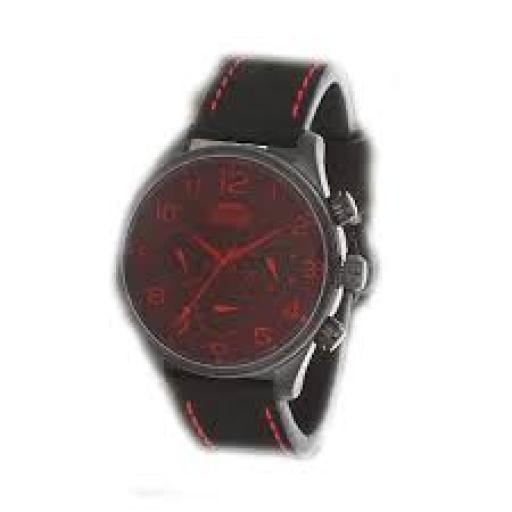KolSaati: (92, 32, 377, 470)
